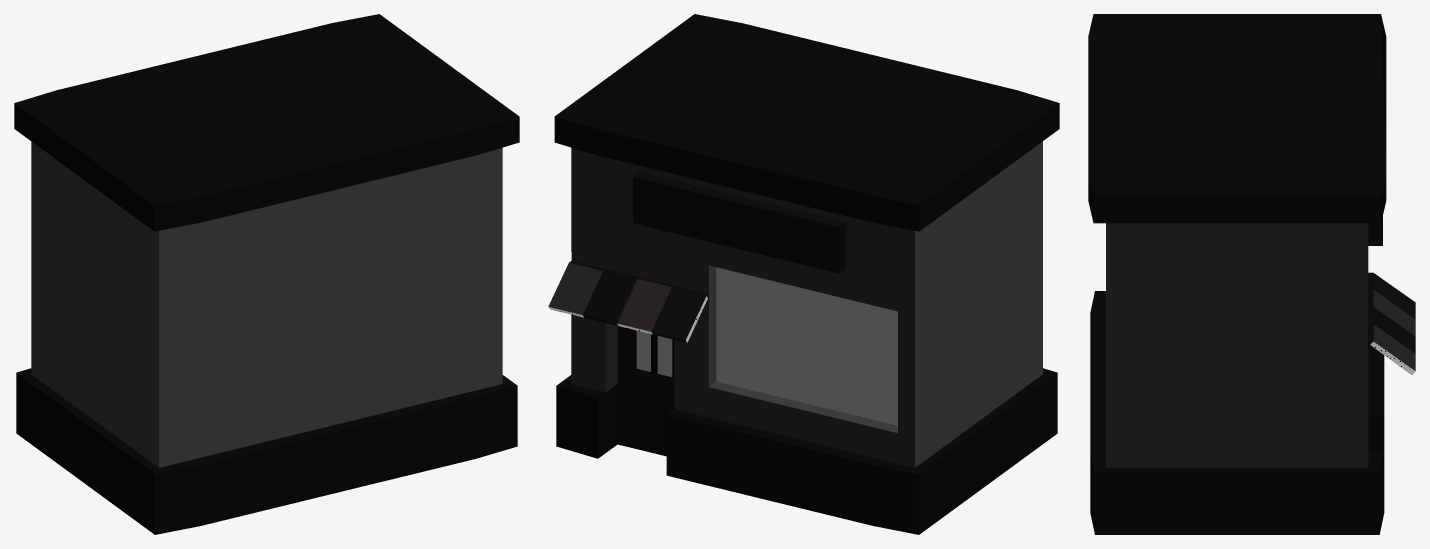
The model's file is storeD.fbx.
3 renders of one model, left to right at view 1: azimuth 30°, elevation 25°; view 2: azimuth 150°, elevation 25°; view 3: azimuth 270°, elevation 25°, orthographic. The views are drawn at different scales.
Visible parts, largest first — view 1: StoreD; view 2: StoreD; view 3: StoreD.
Part boxes in pixels (box(x1,y1,x2,y2)): StoreD: box(14, 14, 519, 534); StoreD: box(548, 14, 1059, 534); StoreD: box(1088, 14, 1415, 534).
Bounding box in the file's own units: 788 × 681 × 596.
